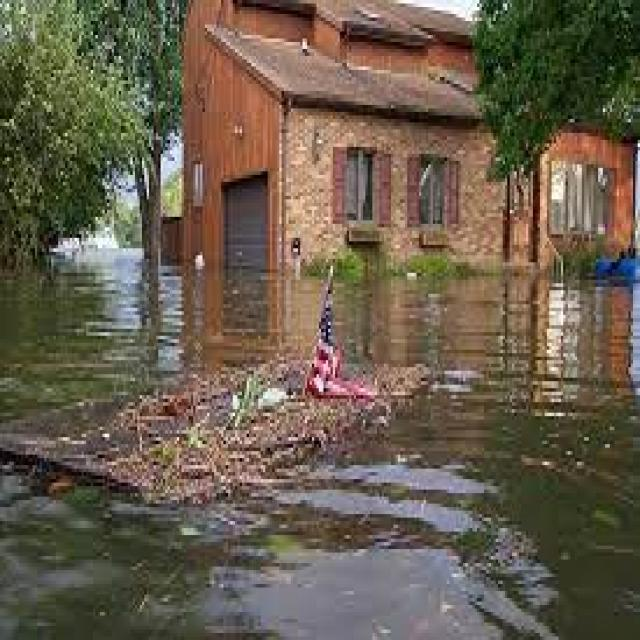Hurricane: (88, 210, 640, 640)
